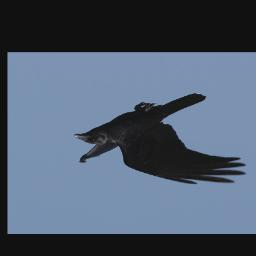Crow: (72, 93, 247, 186)
